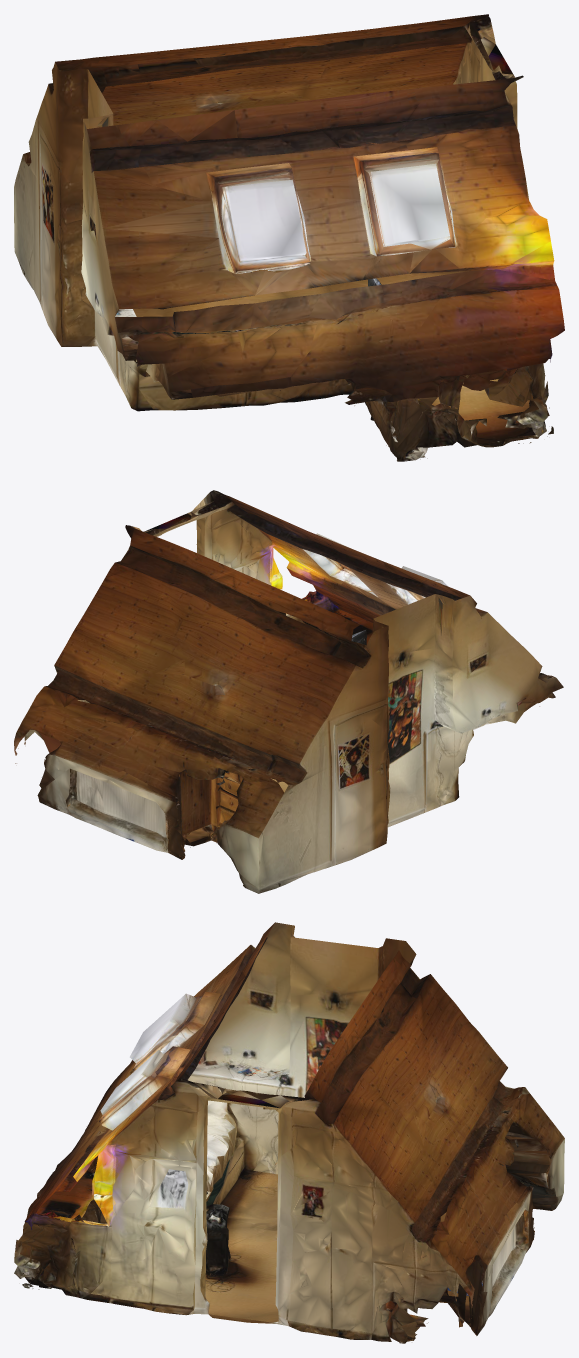
File: student-house-bedroom-scan.glb
3 views of the same model, one above another, from view 1: azimuth 30°, elevation 25°; view 2: azimuth 150°, elevation 25°; view 3: azimuth 270°, elevation 25° (orthographic). The views are drawn at different scales.
Parts seen in each view (by area): view 1: bedroom; view 2: bedroom; view 3: bedroom.
Part boxes in pixels (<box>): bedroom: <box>14,14,564,461</box>; bedroom: <box>14,490,563,893</box>; bedroom: <box>14,922,564,1343</box>.
Size of the model in its own units: 11.82 by 6.35 by 13.21.
Materials: 10 (10 with a texture image).
